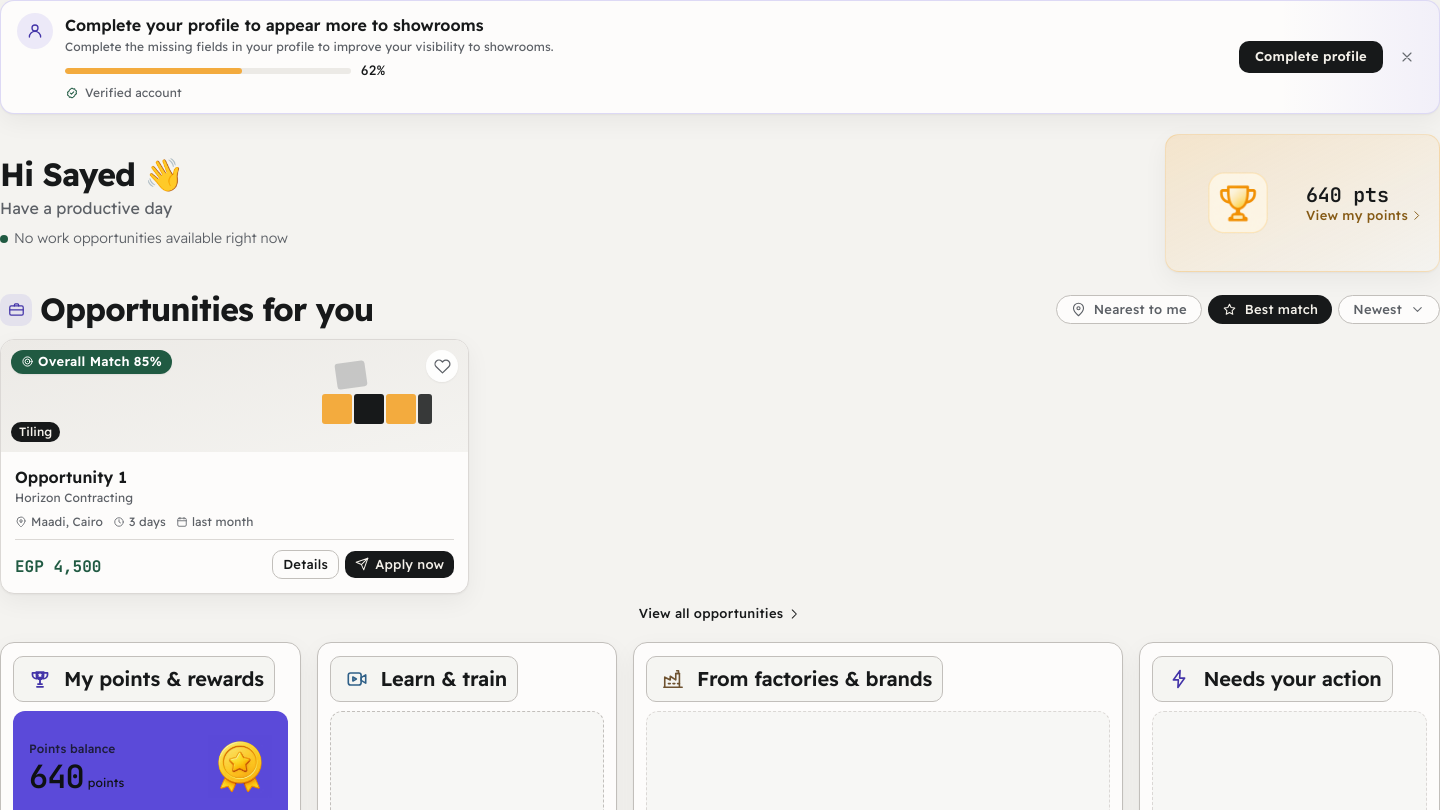
installer dashboard — the card has TWO separate actions › a NOT DECLARED availability reads 'Not specified' with a link to add it — never 0/15, never 'unavailable'
The image size is (1440, 810).
Click the button with test id "match-badge". click: (91, 362)
box: [11,350,172,374]
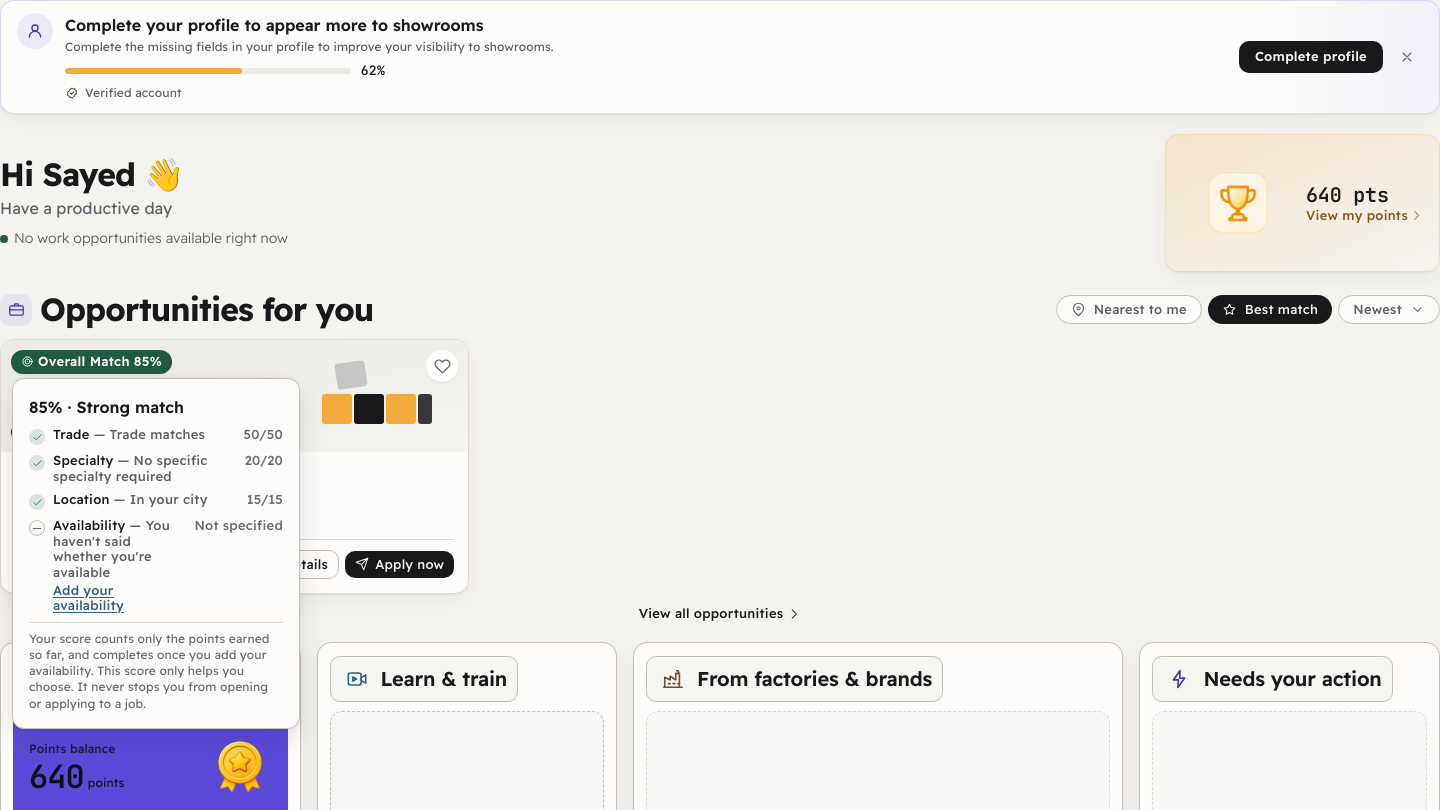
Check: the list item with test id "match-line-availability" shows "Not specified", box [194,517,283,533]
Check: the text with test id "match-not-specified" reads "Not specified", box [194,517,283,533]
Check: the dialog with test id "match-breakdown" shows "counts only the points earned so far", box [29,631,270,678]
